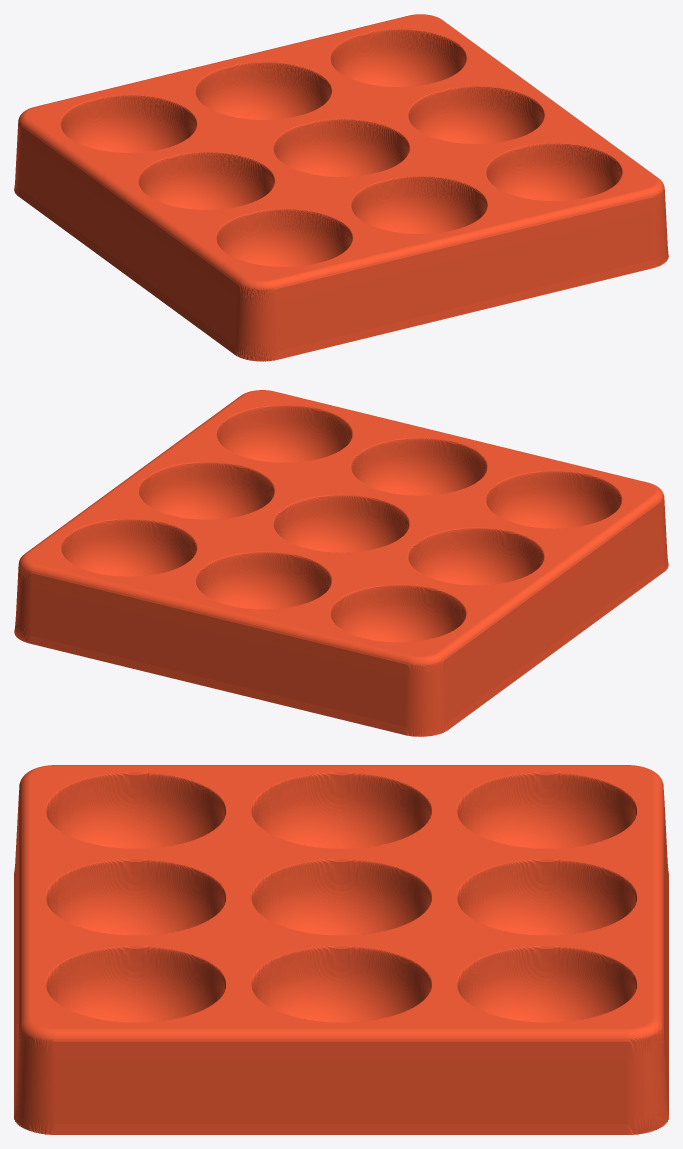
File: mold.glb
The picture shows the model from 3 angles, top to bottom: view 1: azimuth 30°, elevation 25°; view 2: azimuth 150°, elevation 25°; view 3: azimuth 270°, elevation 25°; orthographic projection. The views are drawn at different scales.
Parts seen in each view (by area): view 1: geometry_0; view 2: geometry_0; view 3: geometry_0.
Part boxes in pixels (x1,y1,x2,y2): geometry_0: (14, 14, 668, 361); geometry_0: (14, 390, 668, 736); geometry_0: (14, 765, 668, 1134).
Bounding box in the file's own units: 0.1409 × 0.0235 × 0.1409.
